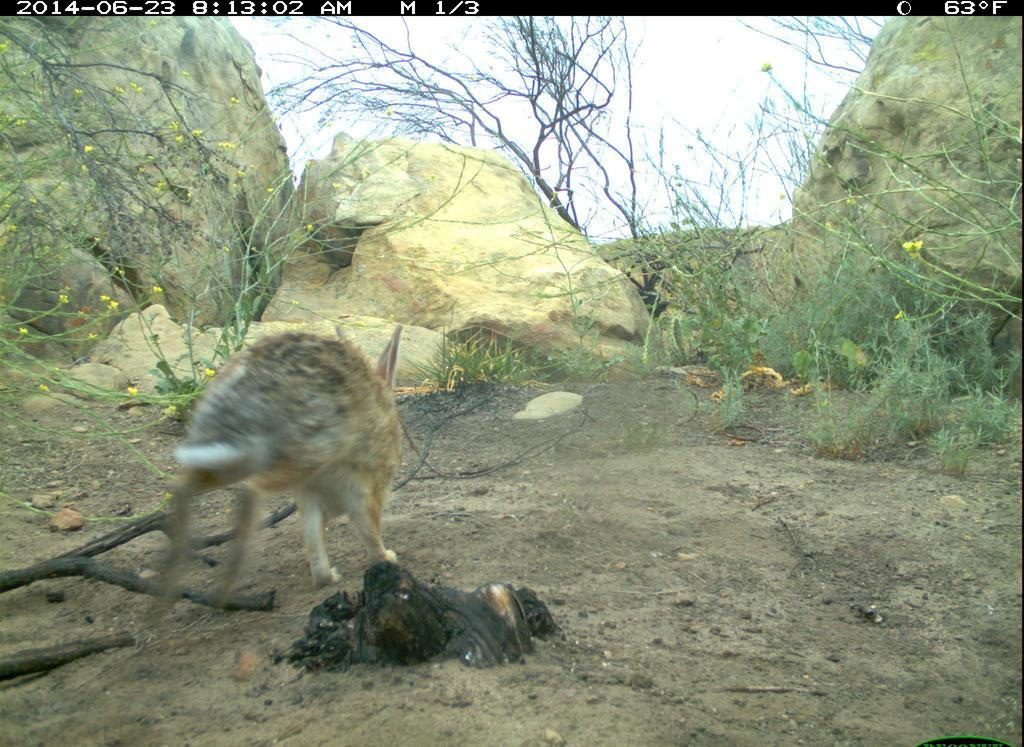rabbit: (149, 310, 423, 639)
